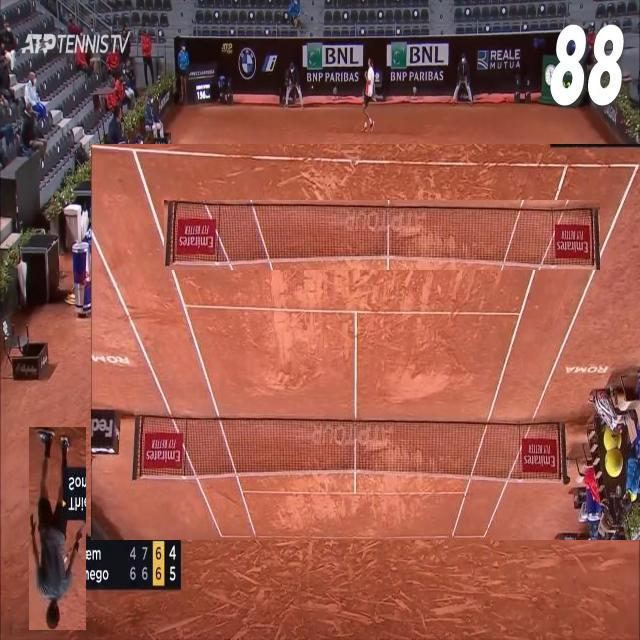court: (91, 144, 640, 540)
net: (164, 200, 600, 270)
player: (29, 427, 88, 630)
